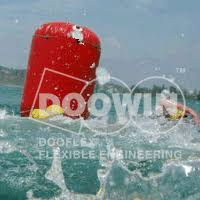buoy: (22, 22, 100, 141)
